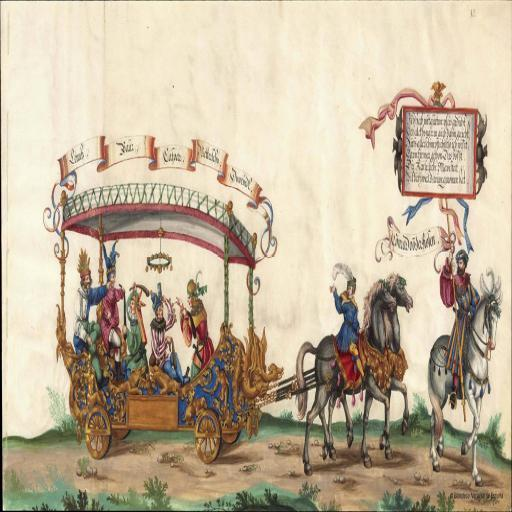horse: (296, 280, 396, 484), (328, 272, 414, 464), (428, 269, 502, 490)
